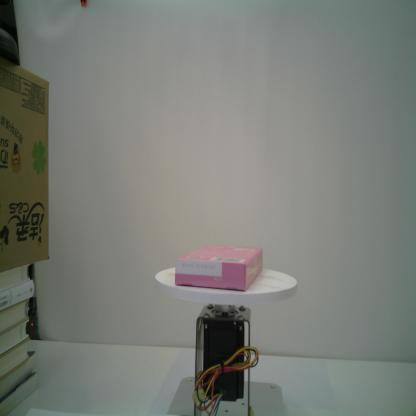Dessert: (174, 244, 264, 291)
